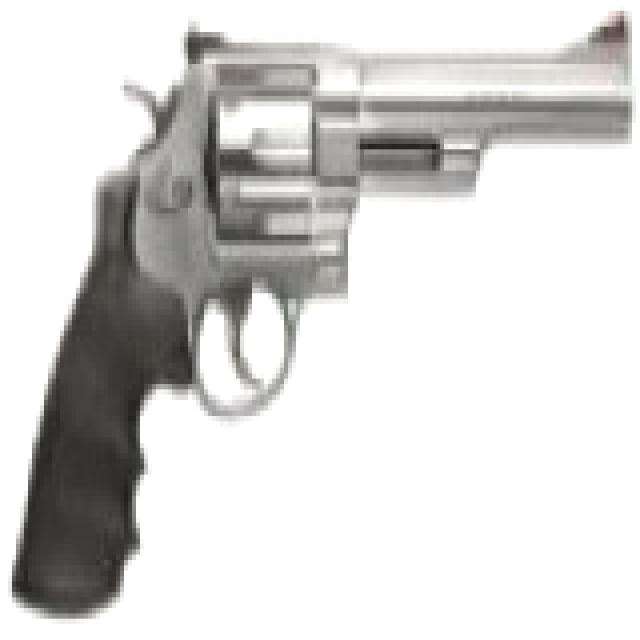pistol: (16, 11, 636, 608)
